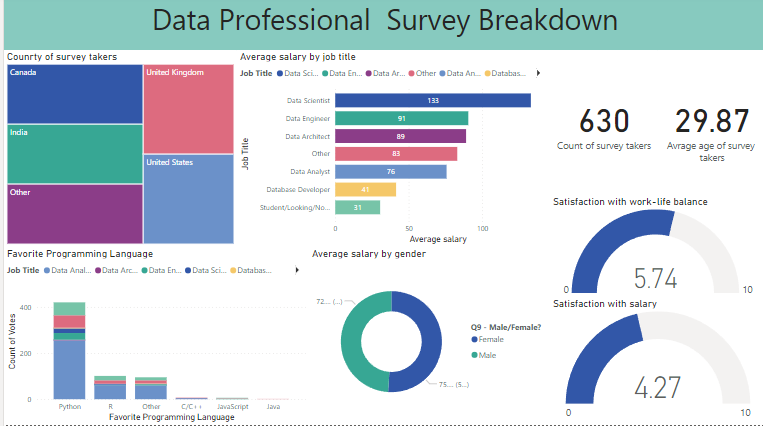

Layout of this report page (visuals, bound fields, positions):
{"tool":"powerbi","page":{"name":"Page 1","canvas":[1280,720],"ordinal":0},"visuals":[{"type":"textbox","box":[0,0,1280,90.7],"z":0},{"type":"card","fields":{"Values":["CountNonNull(Data Professional Survey.Unique ID)"]},"box":[917.2,90.7,181.4,243.6],"z":1000},{"type":"card","fields":{"Values":["Avg(Data Professional Survey.Q10 - Current Age)"]},"box":[1098.6,90.7,181.4,243.6],"z":2000},{"type":"barChart","title":"Average salary by job title","fields":{"Category":["Data Professional Survey.Q1 - Which Title Best Fits your Current Role?.1"],"Y":["Avg(Data Professional Survey.Average salary)"],"Series":["Data Professional Survey.Q1 - Which Title Best Fits your Current Role?.1"]},"box":[391.4,90.7,525.8,330.9],"z":3000},{"type":"columnChart","title":"Favorite Programming Language","fields":{"Category":["Data Professional Survey.Q5 - Favorite Programming Language.1"],"Y":["CountNonNull(Data Professional Survey.Unique ID)"],"Series":["Data Professional Survey.Q1 - Which Title Best Fits your Current Role?.1"]},"box":[0,421.6,512.3,299],"z":3001},{"type":"treemap","title":"Counrty of survey takers","fields":{"Values":["Count(Data Professional Survey.Q11 - Which Country do you live in?.1)"],"Group":["Data Professional Survey.Q11 - Which Country do you live in?.1"]},"box":[0,90.7,391.4,330.9],"z":3002},{"type":"gauge","title":"Satisfaction with work-life balance","fields":{"Y":["Avg(Data Professional Survey.Q6 - How Happy are you in your Current Position with the following? (Work/Life Balance))"],"MinValue":["Min(Data Professional Survey.Q6 - How Happy are you in your Current Position with the following? (Work/Life Balance))"],"MaxValue":["Max(Data Professional Survey.Q6 - How Happy are you in your Current Position with the following? (Work/Life Balance))"]},"box":[917.2,334.3,362.8,174.7],"z":3003},{"type":"gauge","title":"Satisfaction with salary","fields":{"Y":["Avg(Data Professional Survey.Q6 - How Happy are you in your Current Position with the following? (Salary))"],"MinValue":["Min(Data Professional Survey.Q6 - How Happy are you in your Current Position with the following? (Salary))"],"MaxValue":["Max(Data Professional Survey.Q6 - How Happy are you in your Current Position with the following? (Salary))"]},"box":[917.2,505.6,362.8,215],"z":3004},{"type":"donutChart","title":"Average salary by gender","fields":{"Category":["Data Professional Survey.Q9 - Male/Female?"],"Y":["Avg(Data Professional Survey.Average salary)"]},"box":[512.3,421.6,404.8,299],"z":3005}]}

Visuals, with their boxes in screenshot pixels (x1, y1, x2, y2), scaled from the page's 1280x720 canvas onto the 763x426 screenshot:
textbox: rect(0, 0, 762, 54)
card - CountNonNull(Data Professional Survey.Unique ID): rect(547, 54, 655, 198)
card - Avg(Data Professional Survey.Q10 - Current Age): rect(655, 54, 762, 198)
"Average salary by job title" barChart: rect(233, 54, 547, 249)
"Favorite Programming Language" columnChart: rect(0, 249, 305, 425)
"Counrty of survey takers" treemap: rect(0, 54, 233, 249)
"Satisfaction with work-life balance" gauge: rect(547, 198, 762, 301)
"Satisfaction with salary" gauge: rect(547, 299, 762, 425)
"Average salary by gender" donutChart: rect(305, 249, 547, 425)
